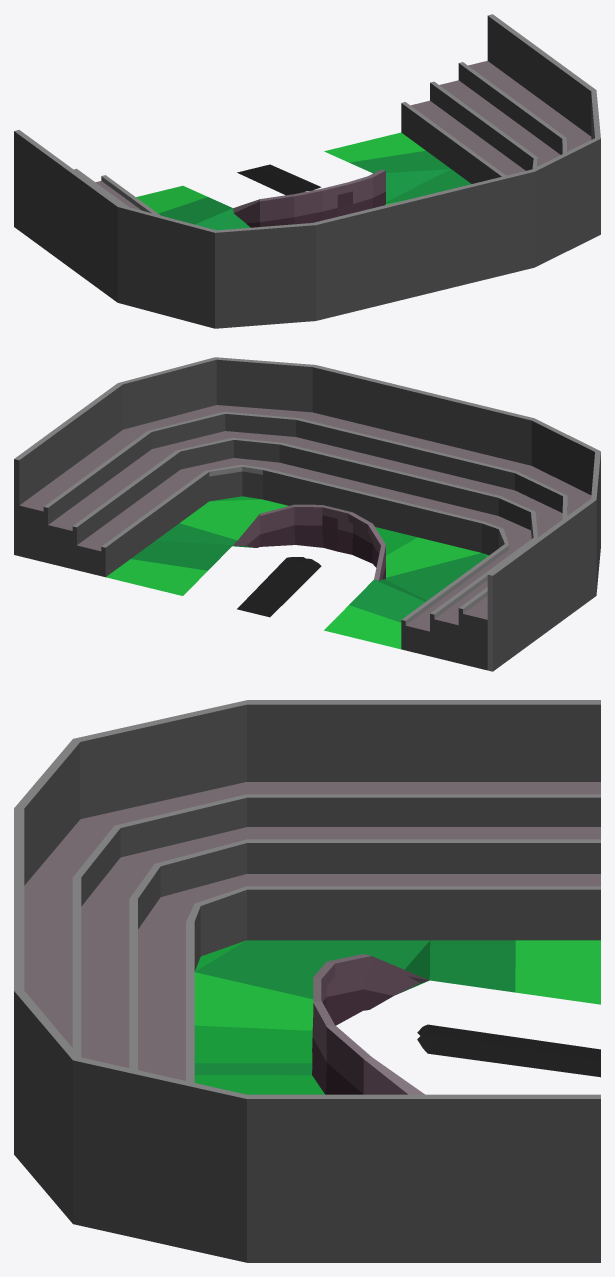
The model's file is parece um teatro grego.gltf.
3 renders of one model, top to bottom at view 1: azimuth 30°, elevation 25°; view 2: azimuth 150°, elevation 25°; view 3: azimuth 270°, elevation 25°, orthographic. The views are drawn at different scales.
Visible parts, largest first — view 1: regular_2; view 2: regular_2; view 3: regular_2.
Part boxes in pixels (box(x1,y1,x2,y2)): regular_2: box(14, 14, 600, 328); regular_2: box(14, 357, 600, 671); regular_2: box(14, 700, 600, 1262).
Size of the model in its own units: 354 by 67.71 by 220.
Materials: 1 (1 with a texture image).
